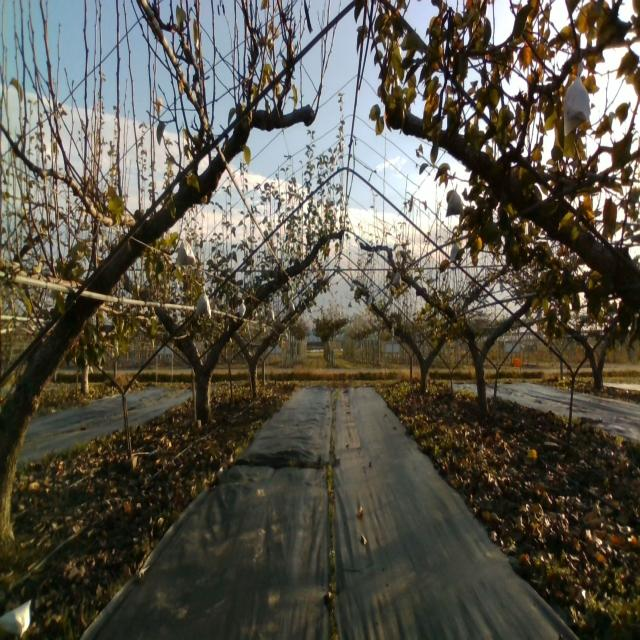pearbags: (563, 60, 591, 136), (445, 183, 464, 219), (177, 237, 197, 267), (197, 286, 211, 318), (449, 242, 462, 261)
